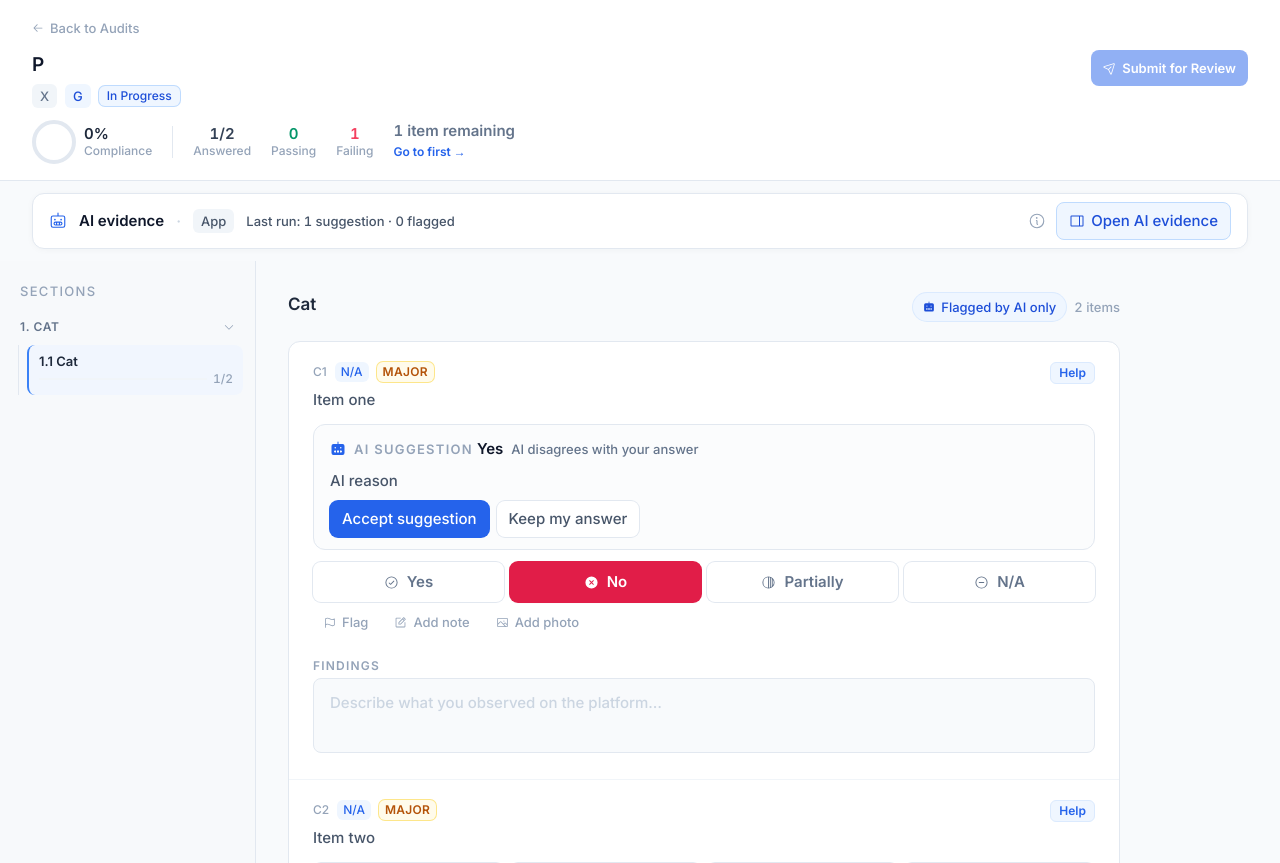
Scenario: page wiring (should hold) › W2 AI result click: accepted, findings box + photo count update, refresh once more
The image size is (1280, 863).
Expected: the button "Accept suggestion" is shown, [330,501,489,537]
Click the button "Yes" below "AI reason". click: [408, 582]
box: [313,562,504,602]
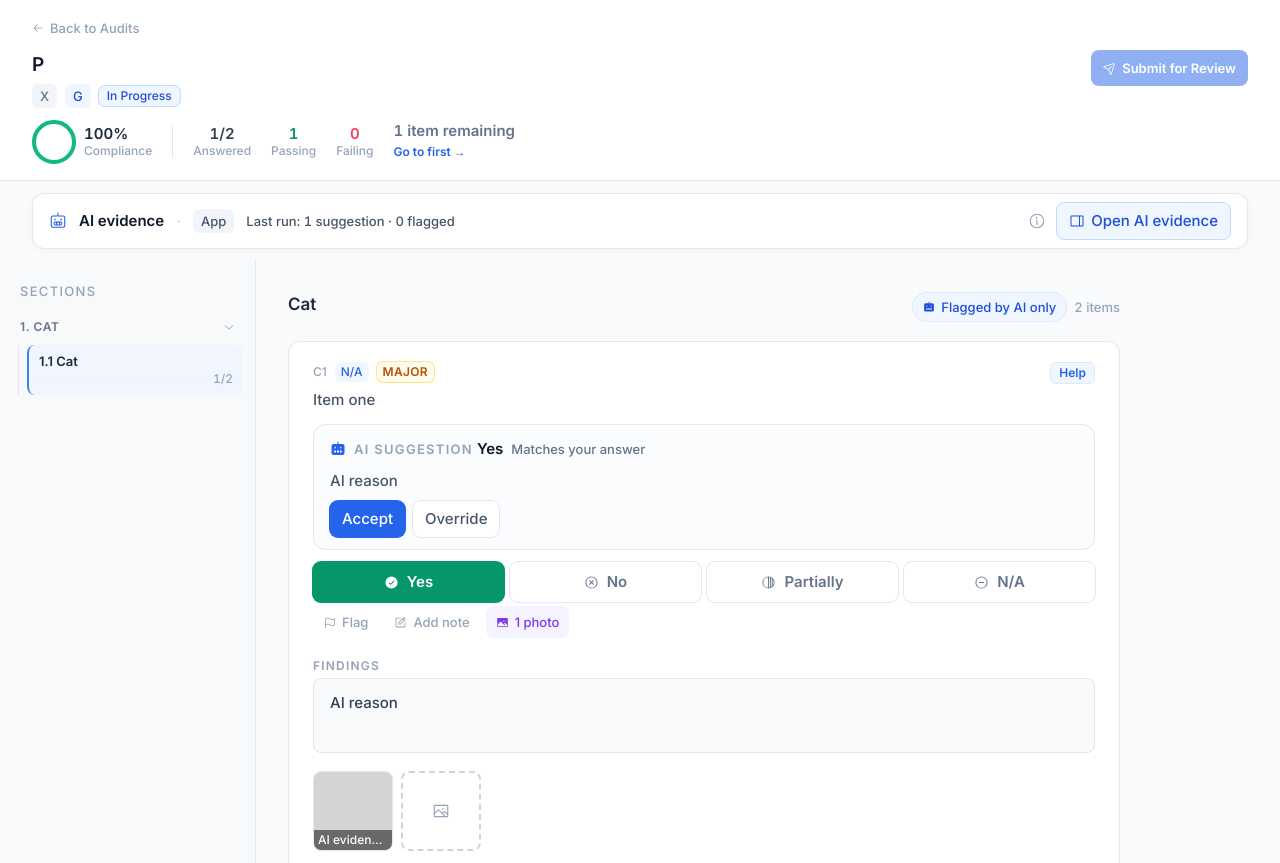
Expected: the text box with placeholder "Describe what you observed on the platform…" holds "AI reason", [313,678,1095,753]
Expected: the button "1 photo" is shown, [486,606,569,638]
